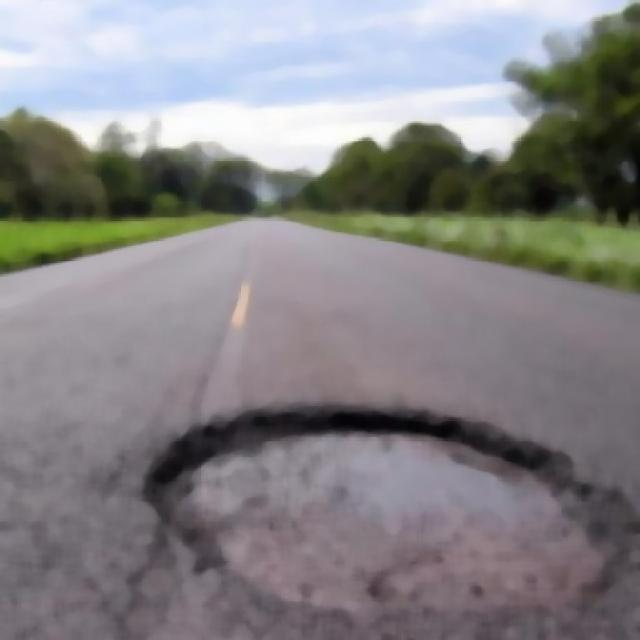Pothole: (136, 398, 613, 617)
